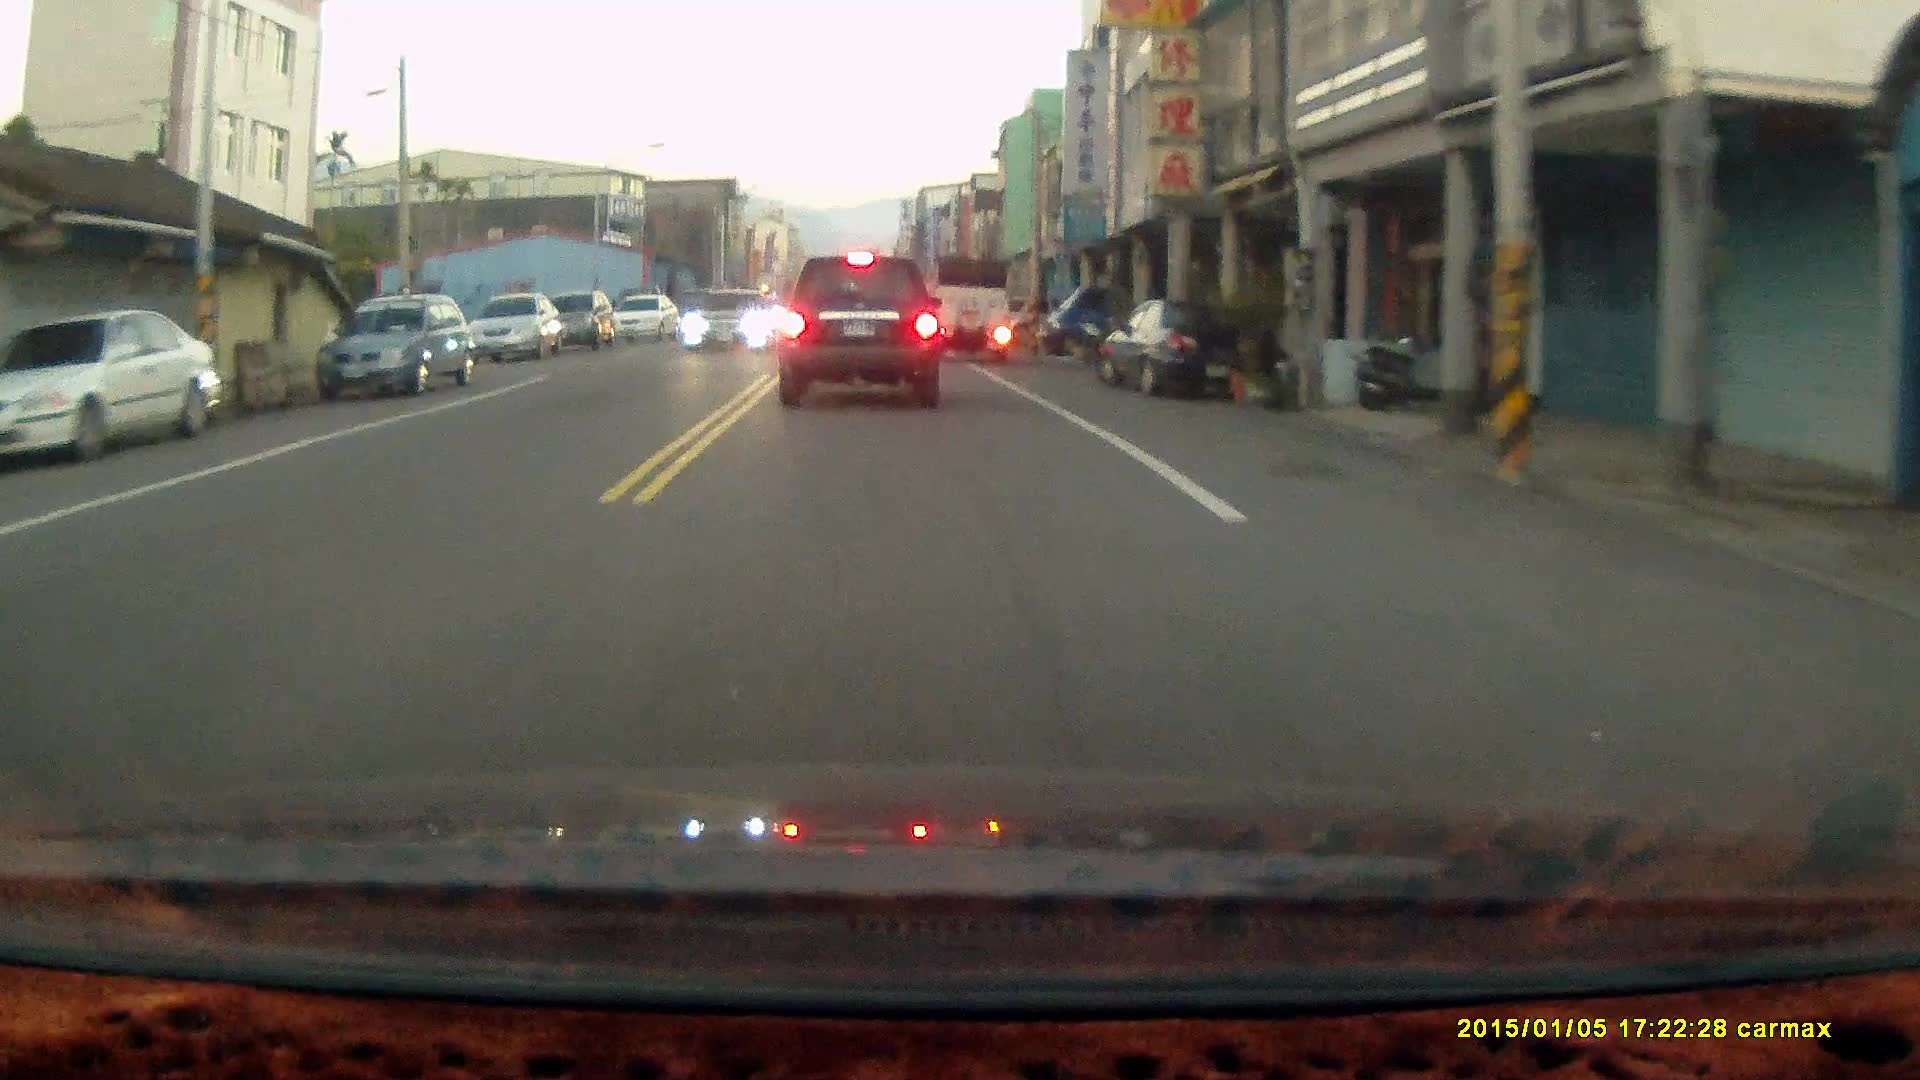vehicle: (1, 315, 224, 473), (777, 256, 942, 413), (1095, 301, 1269, 400), (318, 297, 477, 402), (1040, 280, 1178, 368), (924, 258, 1015, 372), (680, 291, 775, 357), (473, 295, 560, 367), (537, 293, 617, 355), (611, 294, 682, 345)
